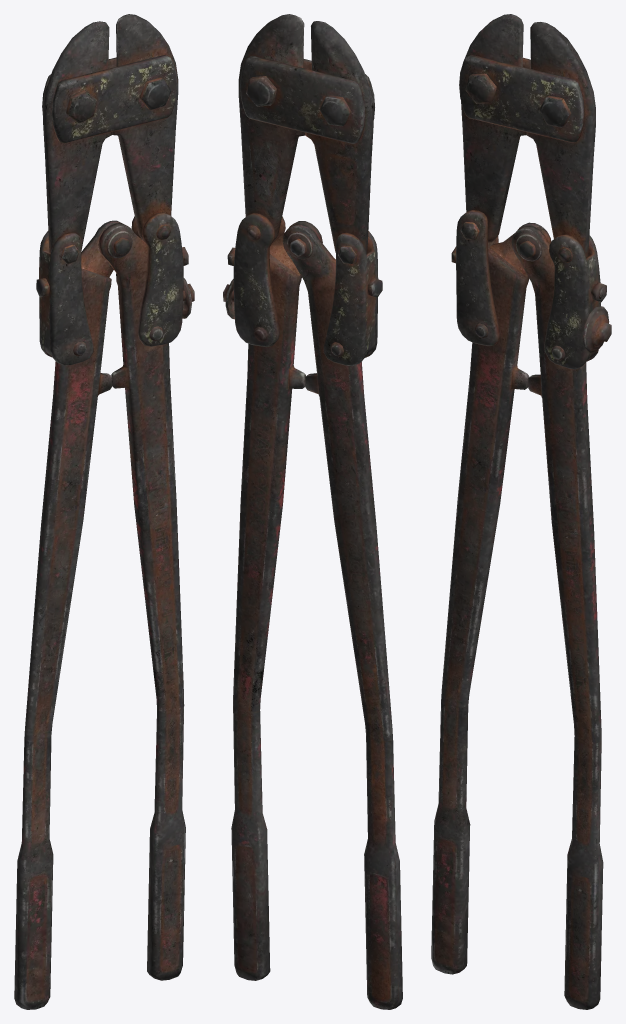
File: premium-ph-bolt-cutters.glb
3 renders of one model, left to right at view 1: azimuth 30°, elevation 25°; view 2: azimuth 150°, elevation 25°; view 3: azimuth 330°, elevation 25°, orthographic.
Visible parts, largest first — view 1: bolt_cutters_01; view 2: bolt_cutters_01; view 3: bolt_cutters_01.
Part boxes in pixels (bbox=[...]): bolt_cutters_01: bbox=[14, 14, 194, 1009]; bolt_cutters_01: bbox=[223, 14, 402, 1009]; bolt_cutters_01: bbox=[431, 14, 611, 1009].
Bounding box in the file's own units: 0.1511 × 0.8026 × 0.0361.
Materials: 1 (1 with a texture image).
